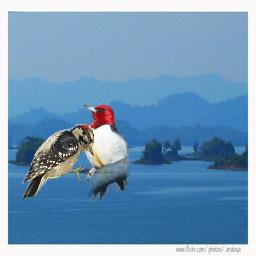Woodpecker: (15, 123, 94, 202), (80, 104, 131, 205)
